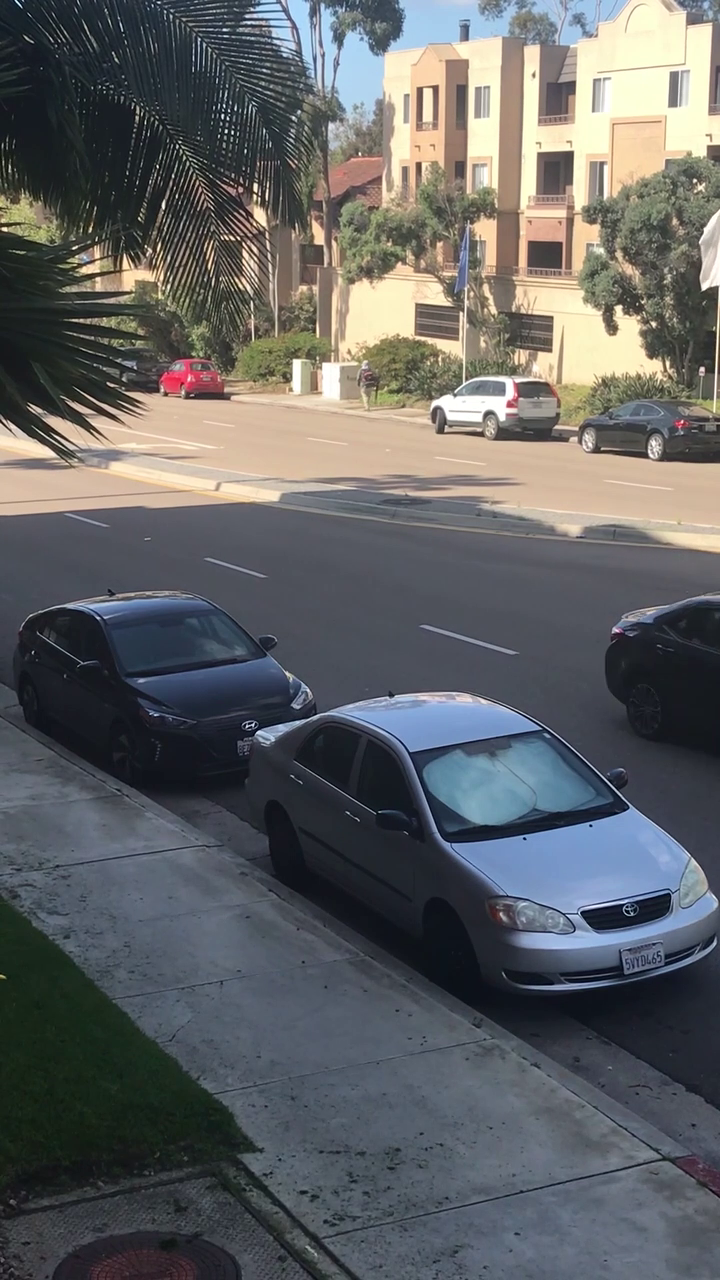car: (234, 682, 695, 1017), (22, 604, 315, 784)
